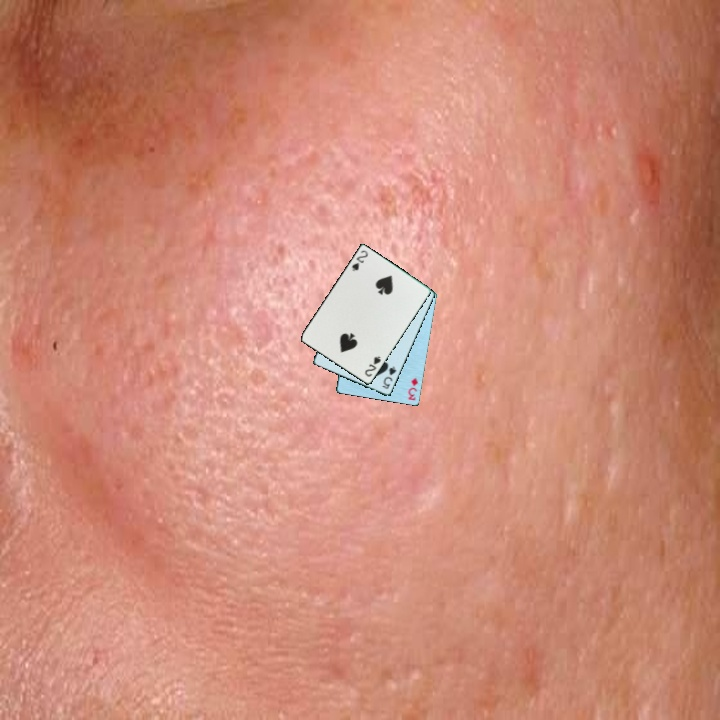2s: (361, 353, 384, 380), (348, 247, 371, 274)
3d: (405, 374, 421, 403)
5s: (379, 363, 399, 392)
